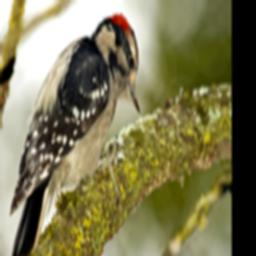Woodpecker: (0, 7, 147, 256)
